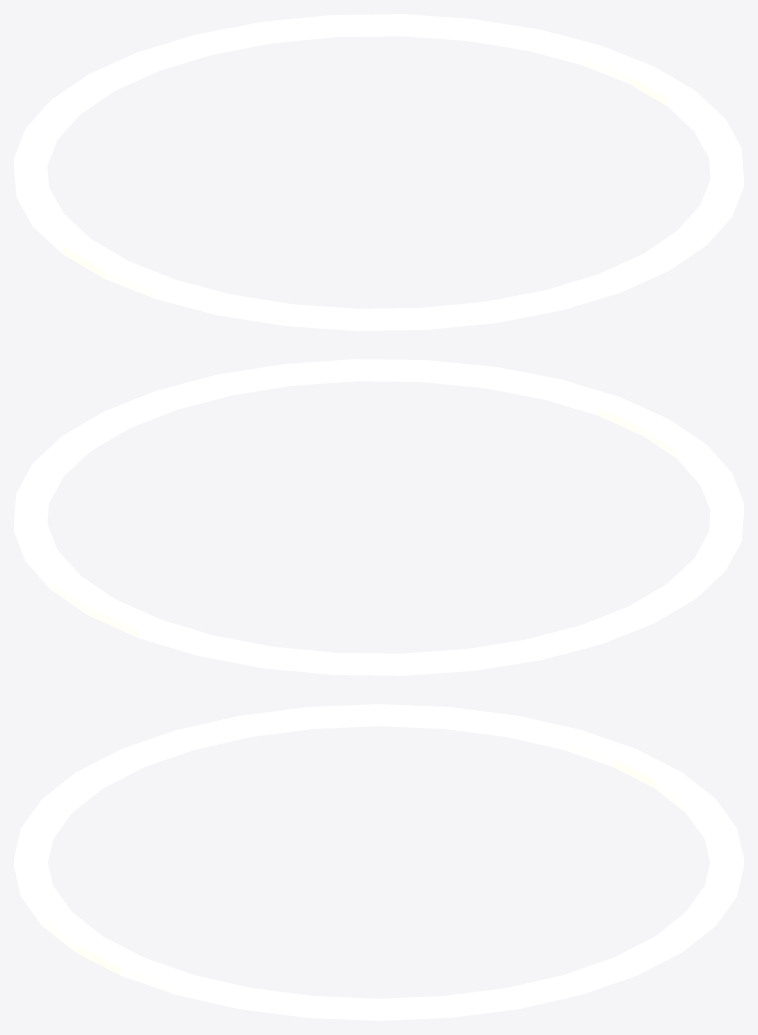
File: ShockRing.fbx
3 views of the same model, one above another, from view 1: azimuth 30°, elevation 25°; view 2: azimuth 150°, elevation 25°; view 3: azimuth 270°, elevation 25° (orthographic).
Visible parts, largest first — view 1: Wavefront; view 2: Wavefront; view 3: Wavefront.
Boxes of the visible parts, x1=… form: Wavefront: x1=14, y1=14, x2=743, y2=330; Wavefront: x1=14, y1=359, x2=743, y2=675; Wavefront: x1=14, y1=704, x2=743, y2=1020.
Size of the model in its own units: 1.6 by 0.02 by 1.6.
